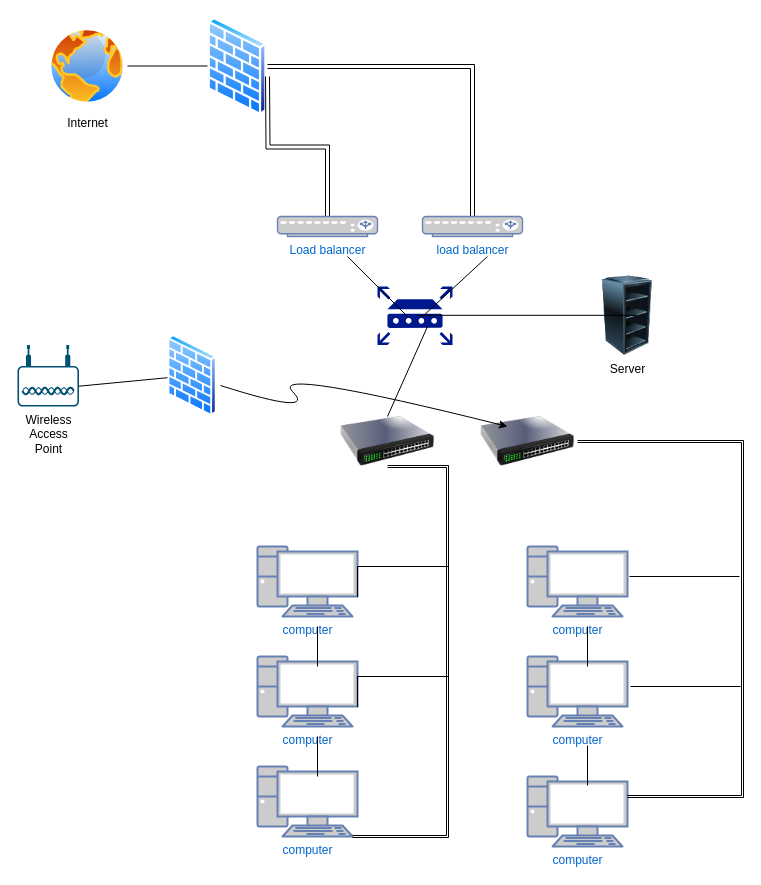
Some shapes in this 761 by 885 pixel diagram are drawn without their labels. Here are the shapes that lost their labels. From the top down, the box of each, then its label:
(207, 17, 267, 115): Firewall
(377, 286, 452, 344): Router
(167, 334, 217, 416): Firewall for wireless
(337, 416, 437, 466): Switch 1
(477, 416, 577, 466): Switch 2
